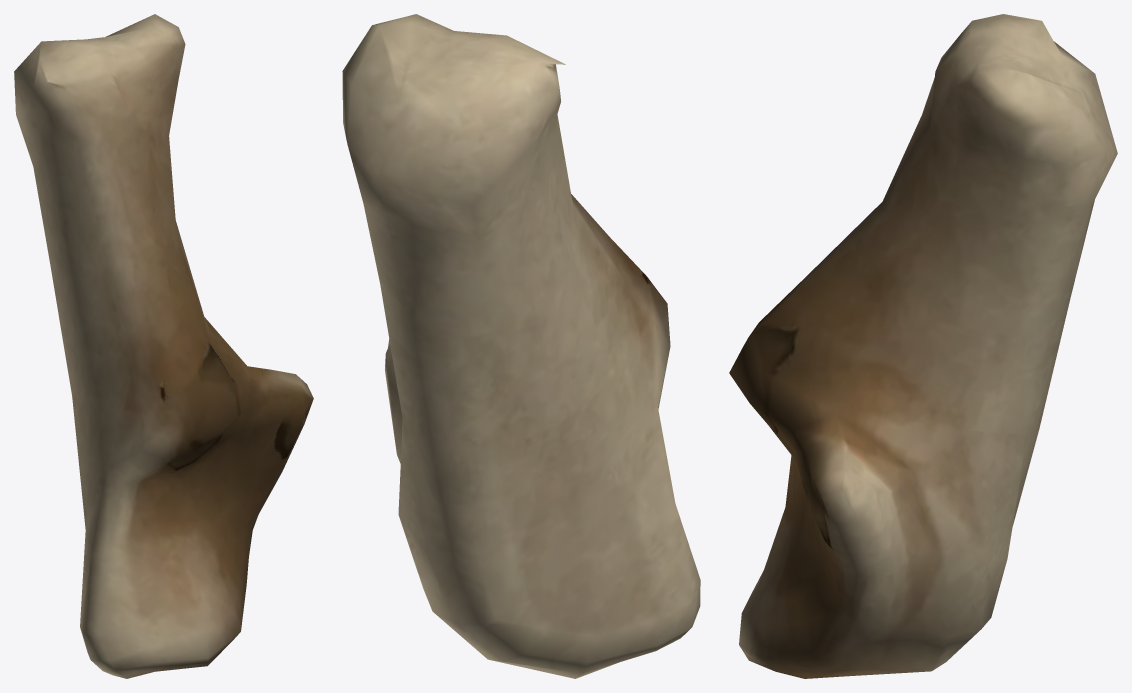
File: Calcaneus.glb
The picture shows the model from 3 angles, left to right: view 1: azimuth 30°, elevation 25°; view 2: azimuth 150°, elevation 25°; view 3: azimuth 270°, elevation 25°; orthographic projection. The views are drawn at different scales.
Visible parts, largest first — view 1: Calcaneus_Right1:Group40833; view 2: Calcaneus_Right1:Group40833; view 3: Calcaneus_Right1:Group40833.
Part boxes in pixels (left/top/right/bottom): Calcaneus_Right1:Group40833: left=14, top=14, right=313, bottom=678; Calcaneus_Right1:Group40833: left=342, top=14, right=700, bottom=678; Calcaneus_Right1:Group40833: left=729, top=14, right=1117, bottom=678.
Bounding box in the file's own units: 18.78 × 42.95 × 23.25.
1 material, 1 textured.
